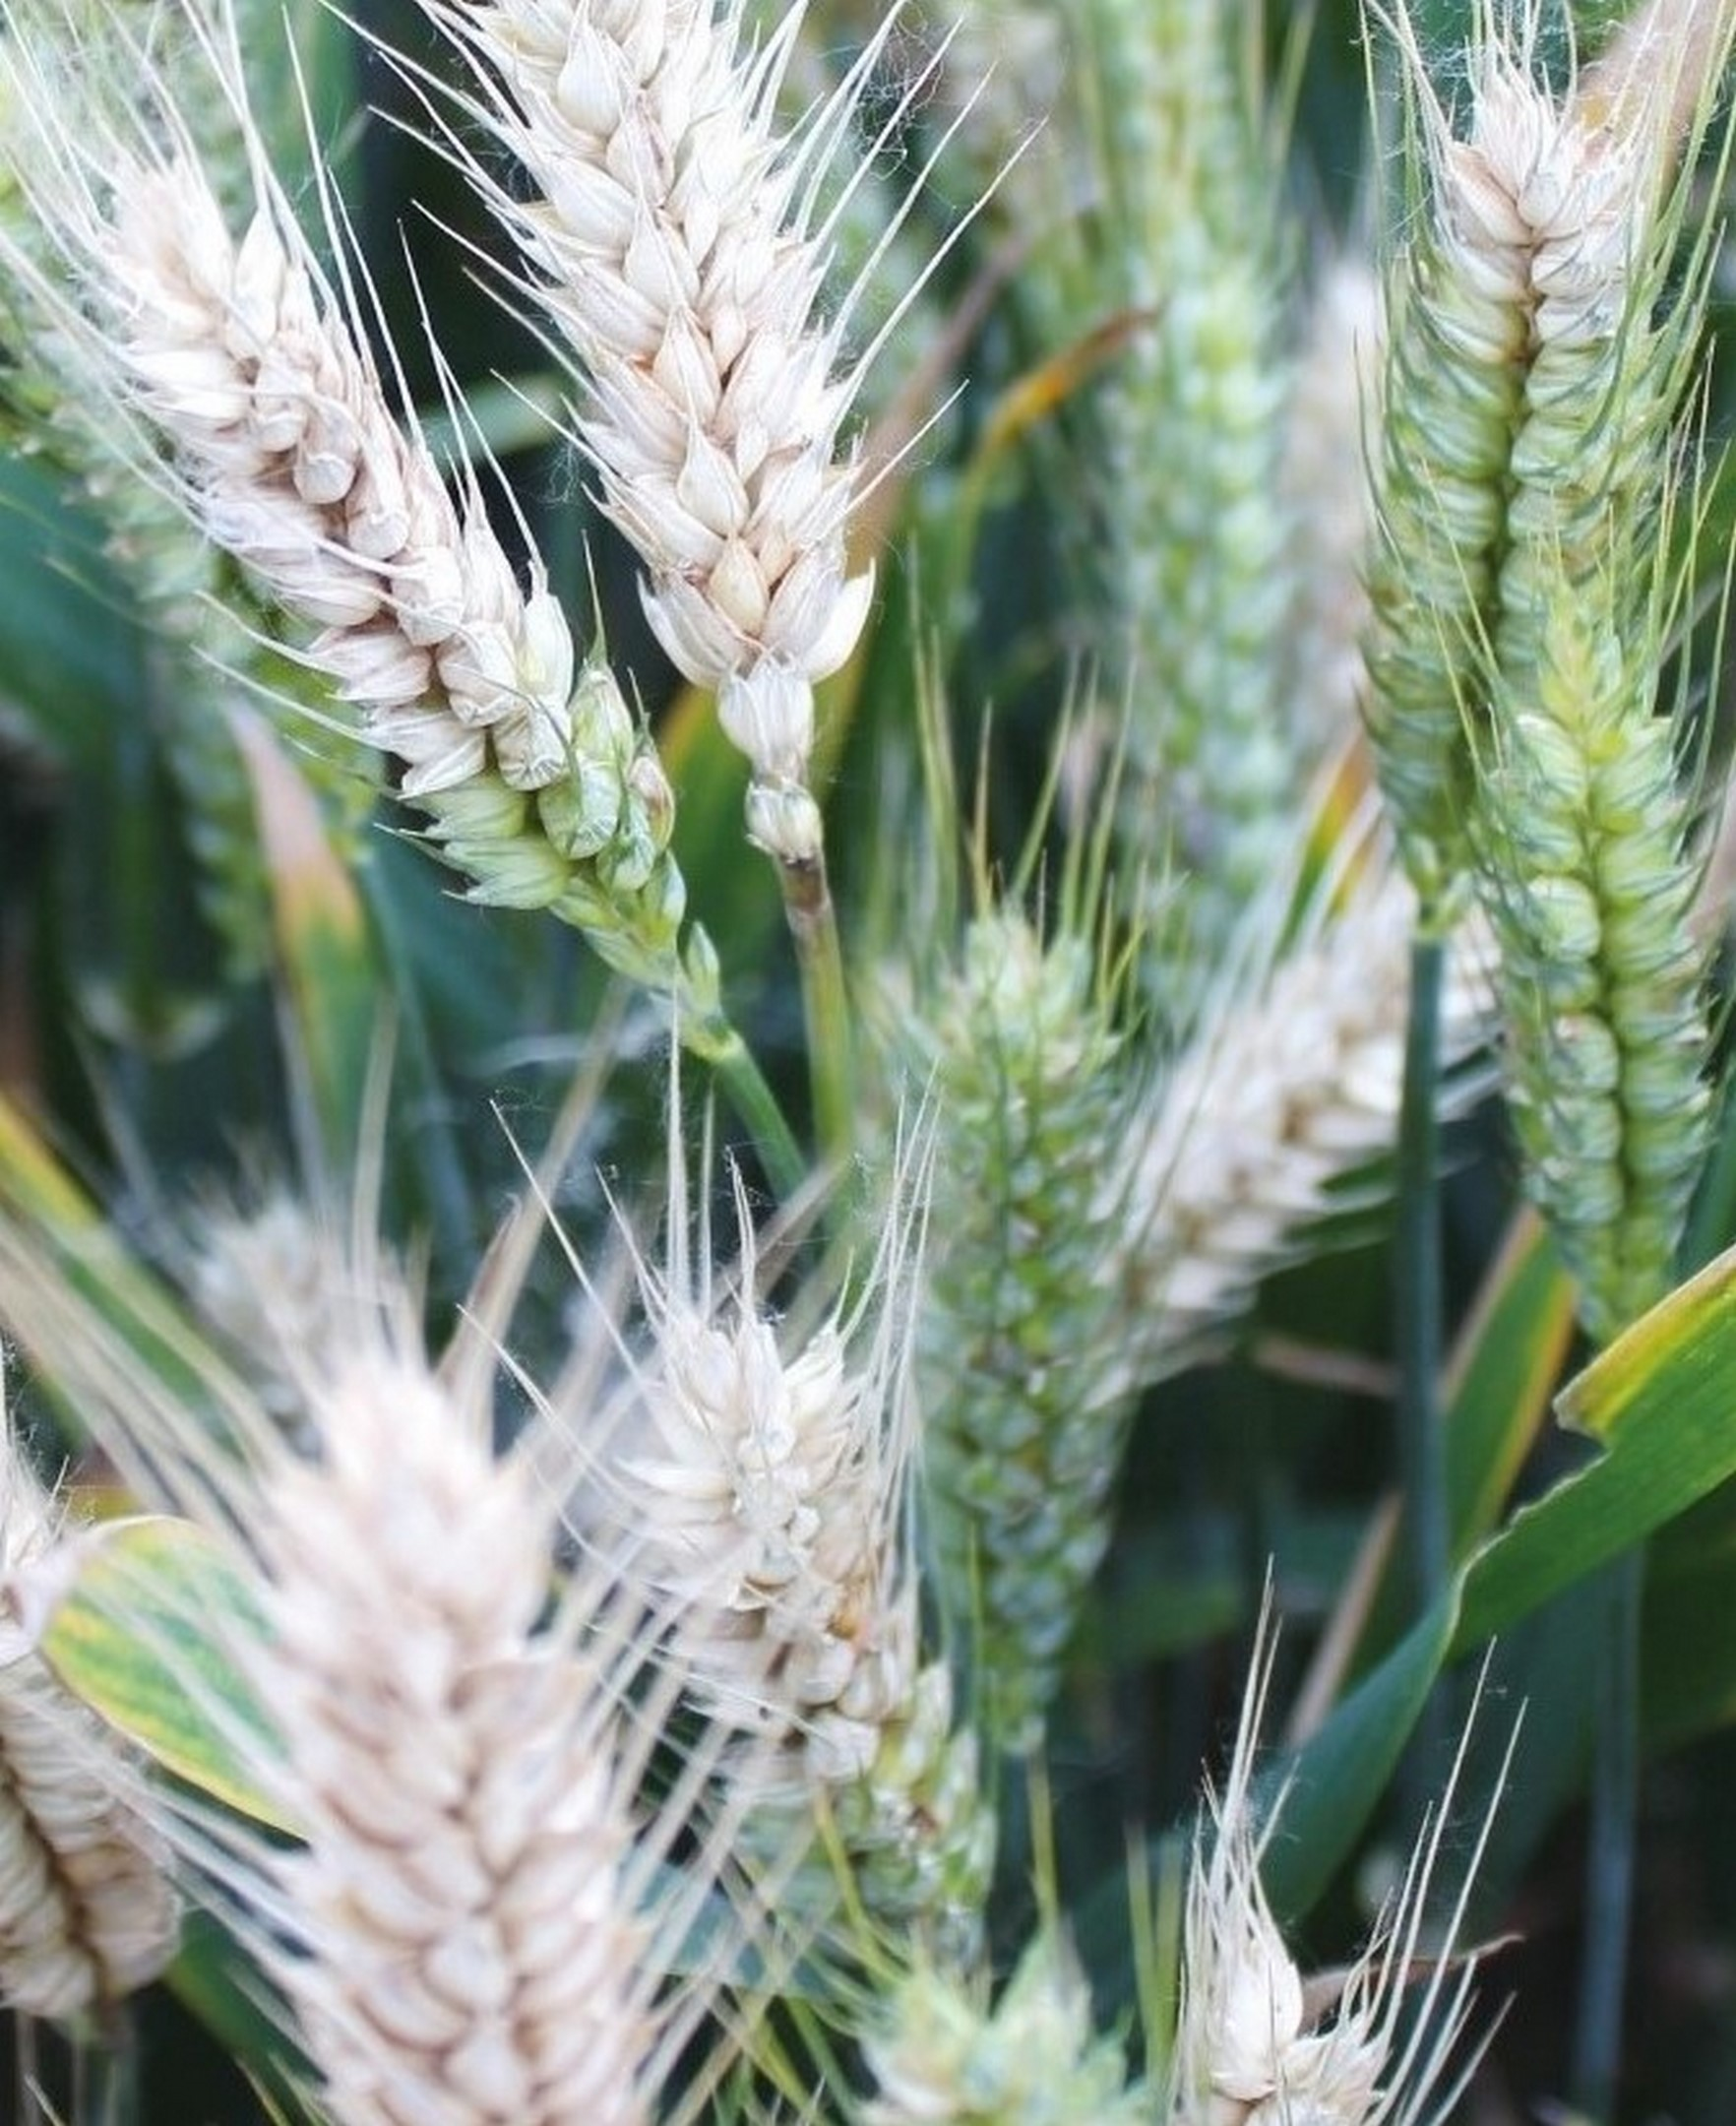Wheat scab: (51, 157, 694, 980), (1332, 62, 1702, 885), (629, 1298, 1021, 1932)
